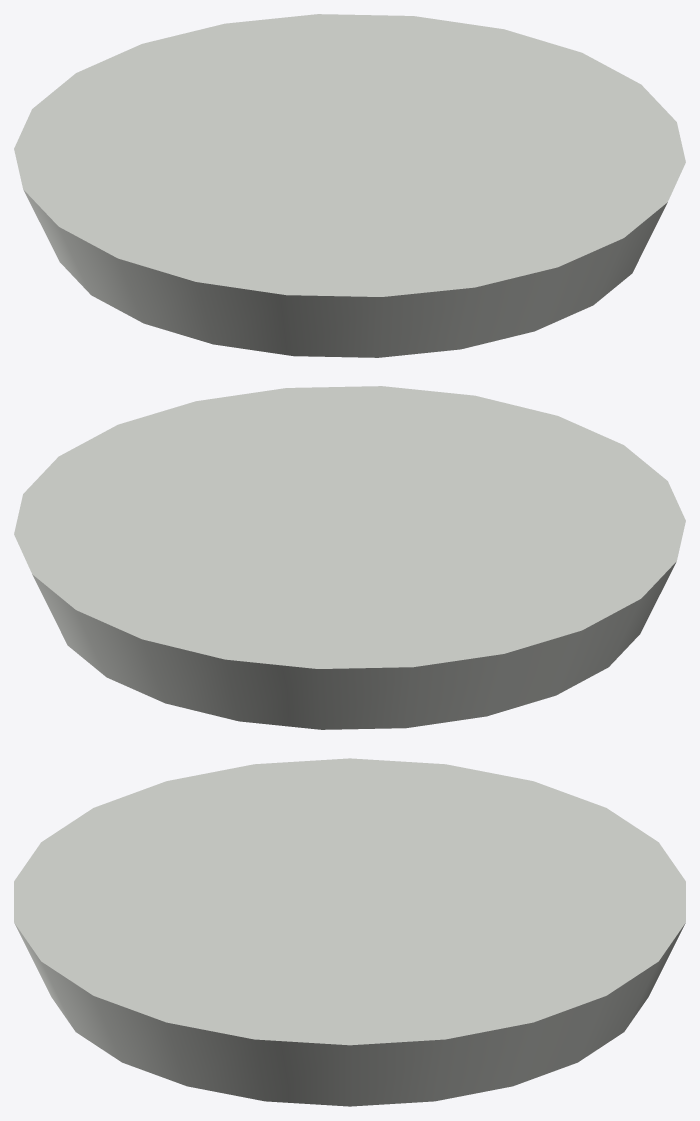
File: Focus.FBX
3 views of the same model, one above another, from view 1: azimuth 30°, elevation 25°; view 2: azimuth 150°, elevation 25°; view 3: azimuth 270°, elevation 25° (orthographic).
Parts seen in each view (by area): view 1: focus light; view 2: focus light; view 3: focus light.
Part boxes in pixels (x1,y1,x2,y2): focus light: [14, 14, 685, 357]; focus light: [14, 386, 685, 729]; focus light: [14, 758, 685, 1106].
Size of the model in its own units: 314 by 311 by 39.45.
